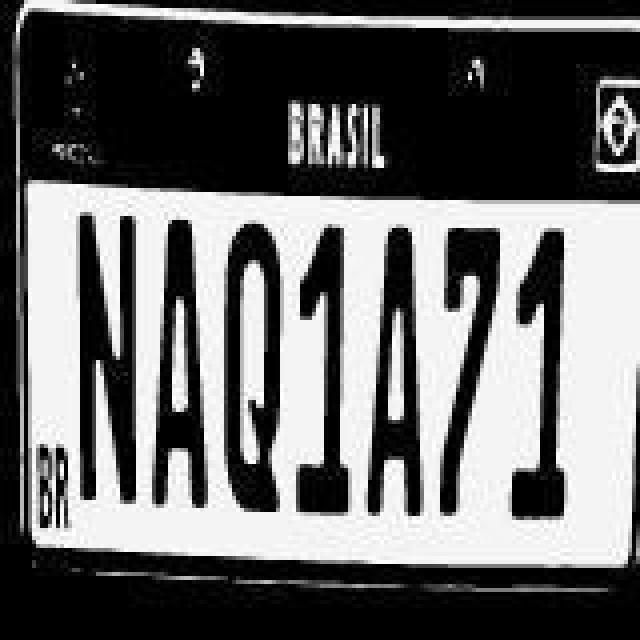1: (512, 228, 576, 524), (296, 226, 352, 526)
7: (438, 222, 498, 514)
A: (150, 210, 218, 510), (366, 232, 426, 520)
N: (72, 208, 144, 520)
Q: (222, 218, 290, 526)
